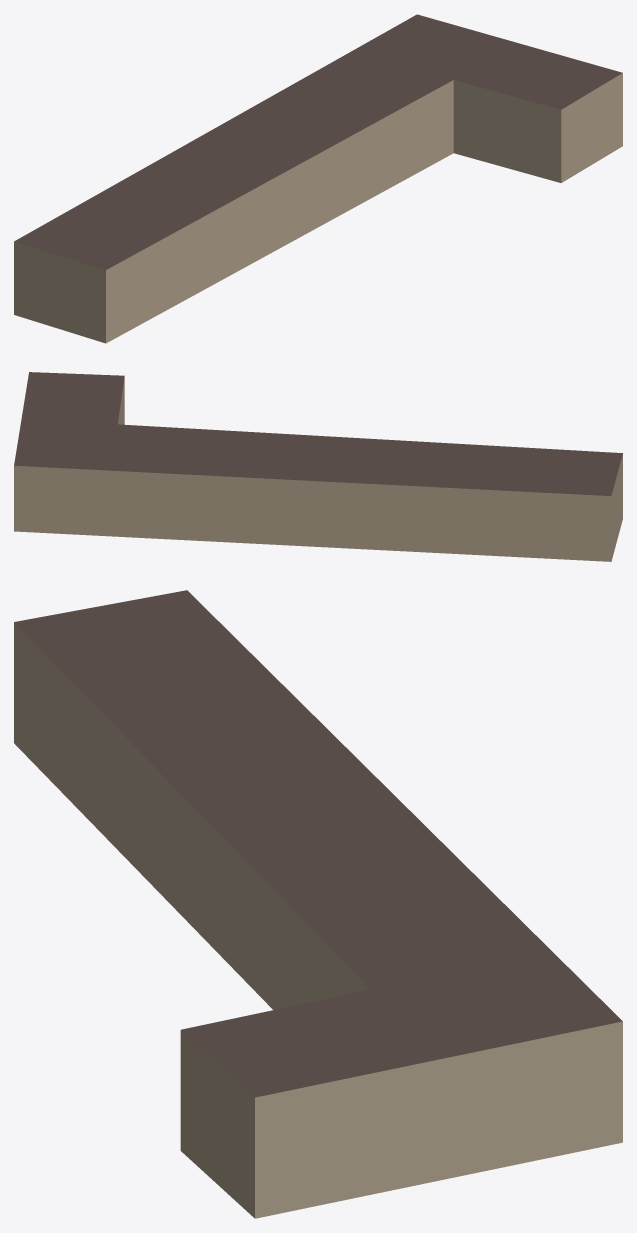
3 renders of one model, top to bottom at view 1: azimuth 30°, elevation 25°; view 2: azimuth 150°, elevation 25°; view 3: azimuth 270°, elevation 25°, orthographic. The views are drawn at different scales.
Parts seen in each view (by area): view 1: HP-w859086176; view 2: HP-w859086176; view 3: HP-w859086176.
Part boxes in pixels (x1=…): HP-w859086176: x1=14, y1=14, x2=622, y2=343; HP-w859086176: x1=14, y1=372, x2=622, y2=561; HP-w859086176: x1=14, y1=590, x2=622, y2=1218.
Size of the model in its own units: 80.79 by 9 by 40.98.
